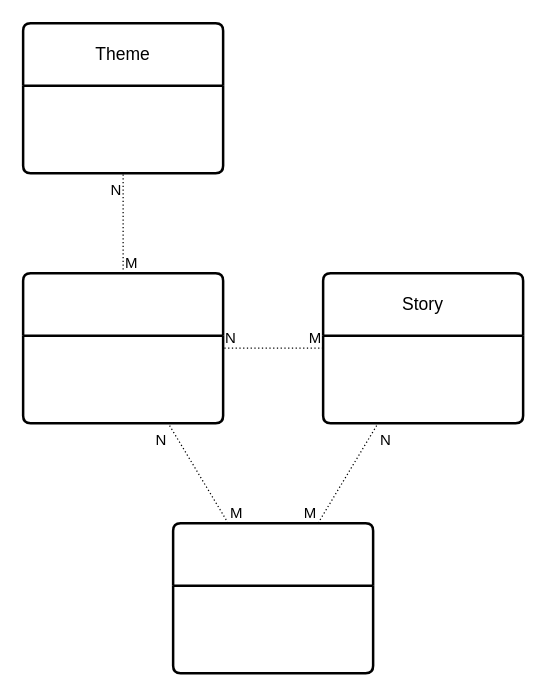
Some shapes in this 545 by 695 pixel diagram are drawn without their labels. Here are the shapes that lost their labels. From the top down, the box of each, then its label:
(21, 271, 224, 424): Epic
(171, 521, 374, 674): Issue
